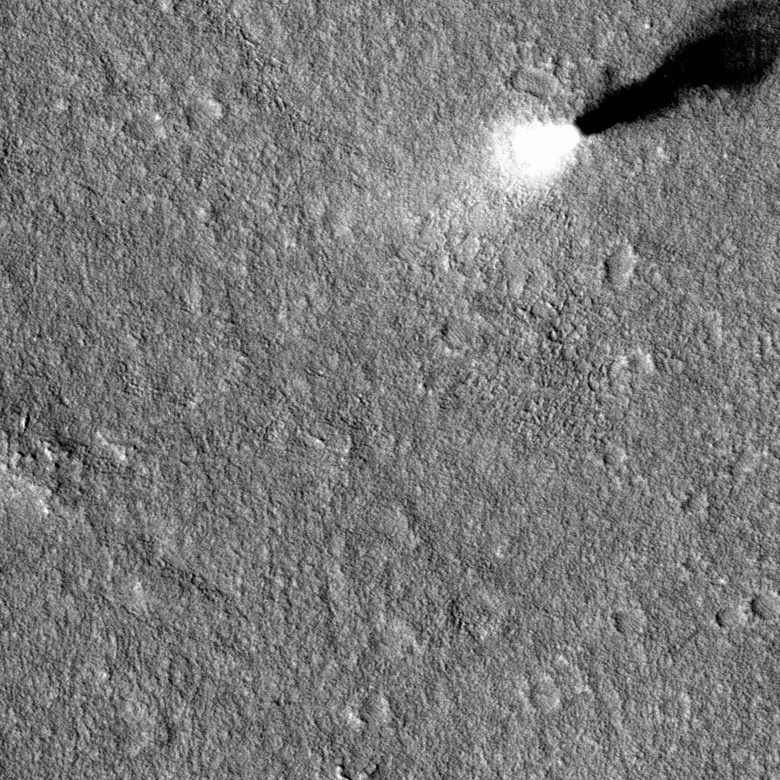dust_devil: (477, 1, 780, 202)
